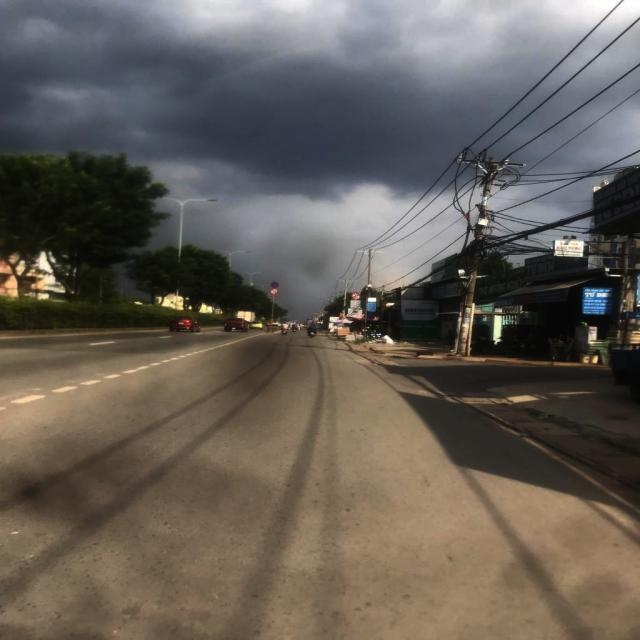107-cam-oto-khach-va-oto-tai: (351, 292, 361, 300)
